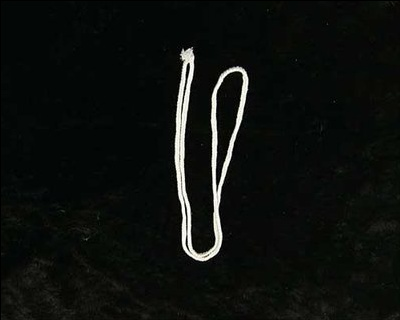9/可回收垃圾/绳子: (174, 47, 249, 263)
